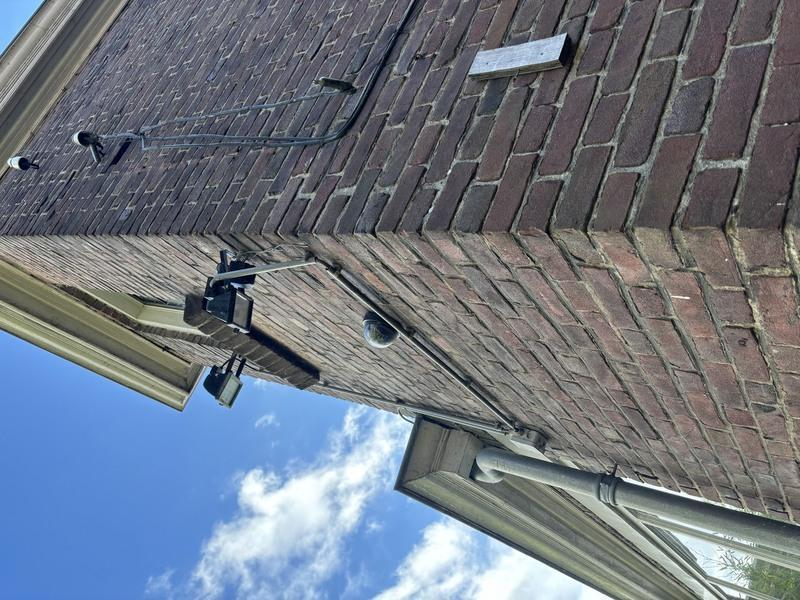dome: (246, 357, 294, 406)
